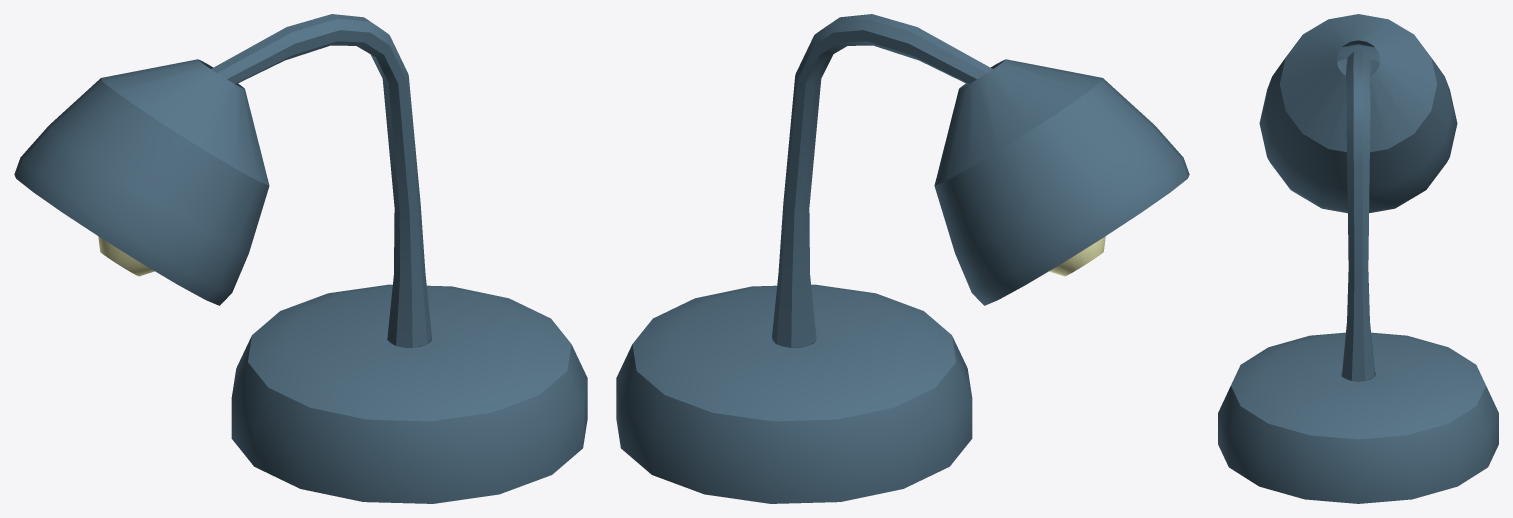
Rendered from SM_Lamp.fbx.
3 renders of one model, left to right at view 1: azimuth 30°, elevation 25°; view 2: azimuth 150°, elevation 25°; view 3: azimuth 270°, elevation 25°, orthographic. The views are drawn at different scales.
Visible parts, largest first — view 1: SM_Lamp; view 2: SM_Lamp; view 3: SM_Lamp.
Boxes of the visible parts, <box> form: SM_Lamp: <box>14,14,587,503</box>; SM_Lamp: <box>616,14,1189,503</box>; SM_Lamp: <box>1218,14,1498,503</box>.
Size of the model in its own units: 135 by 104 by 78.69.
